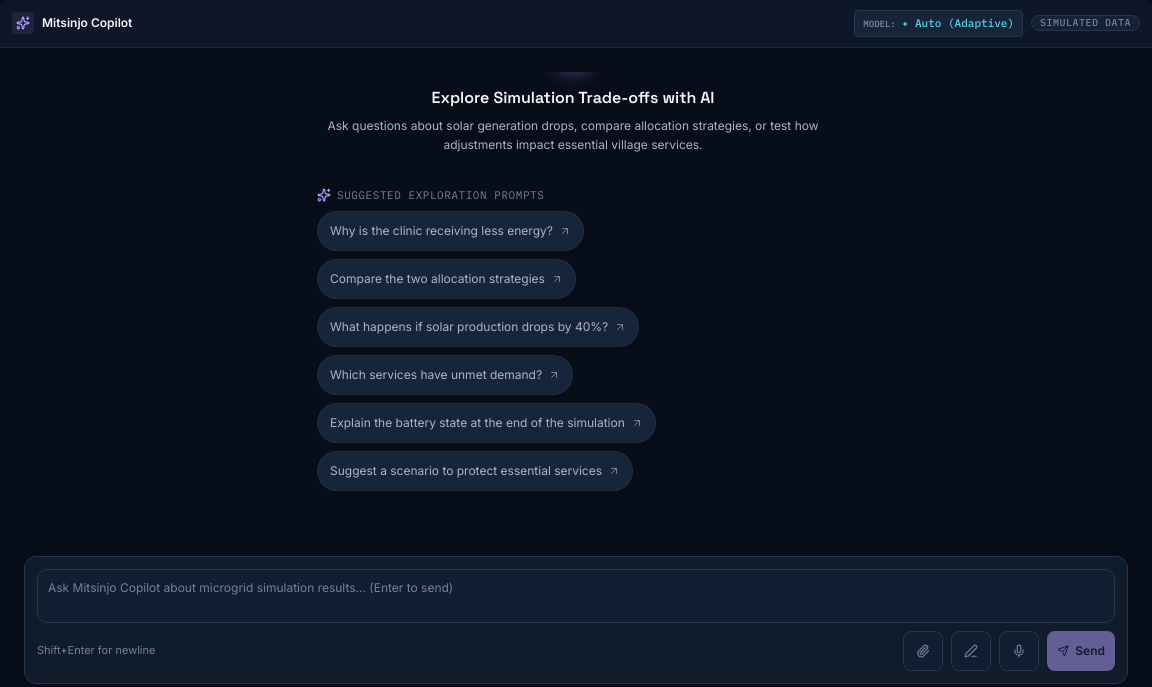
Test: Copilot chat flow (decisions, fallback note) › approving applies that proposal once, locks the card and posts the decision
(page scrolled)
Replace the text in the text box with "Cut the market tonight": (576, 596) [37, 568, 1115, 622]
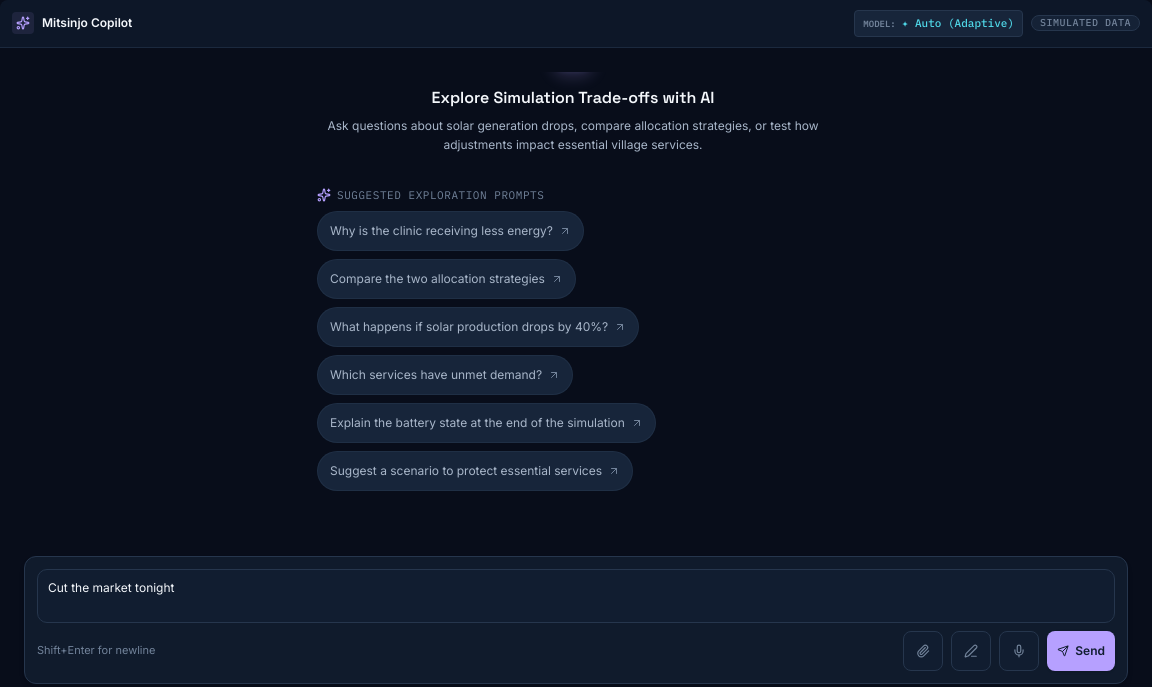
Press Enter in the text box, box [37, 568, 1115, 622]
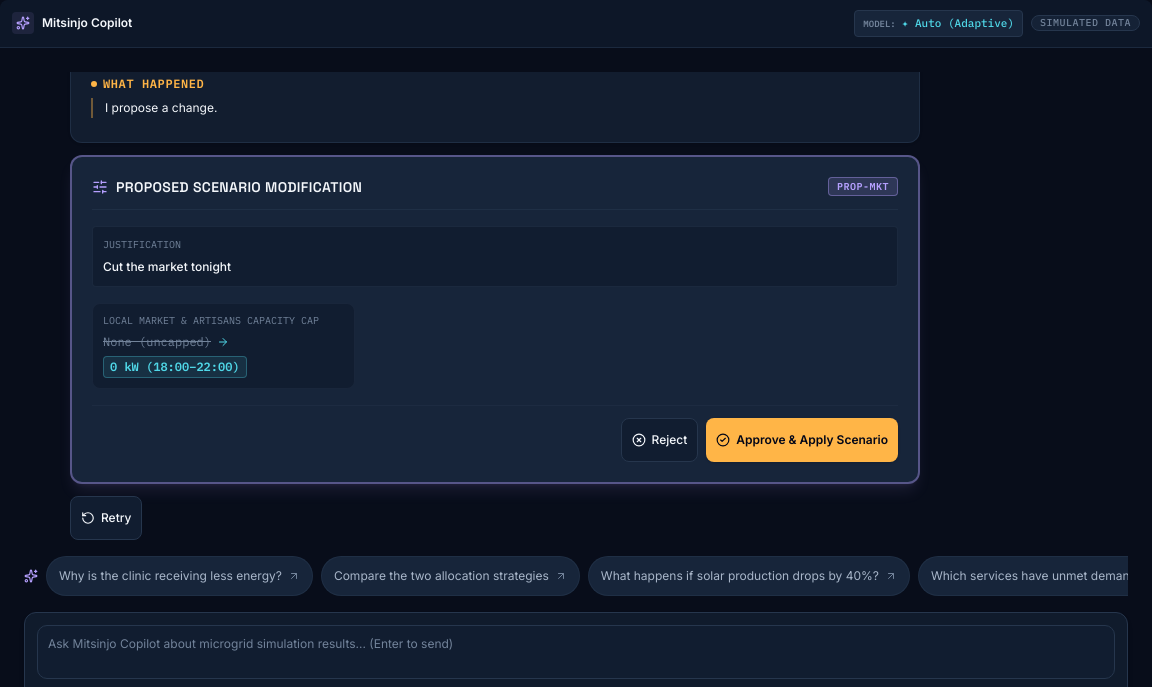
Click the button "Approve & Apply Scenario": (802, 440) [706, 418, 898, 462]
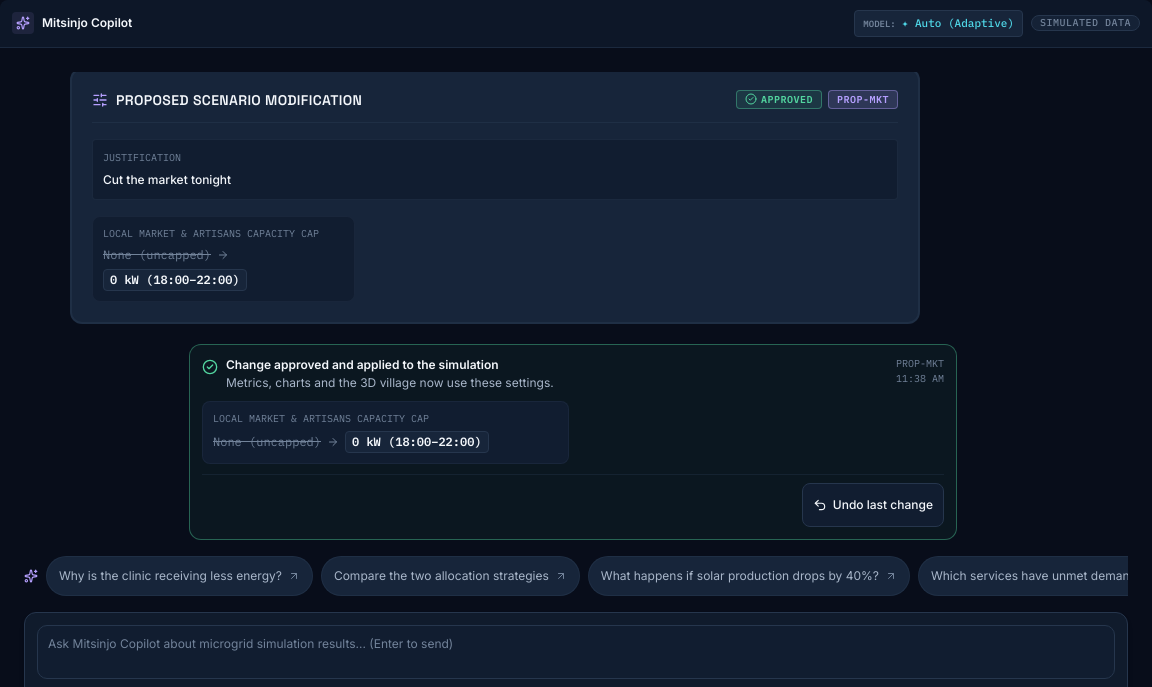
Now the message shows "Change approved and applied to the simulation", box [226, 357, 498, 372]
Now the message shows "Local Market & Artisans Capacity Cap", box [213, 412, 429, 425]
Now the message shows "0 kW (18:00–22:00)", box [352, 434, 482, 449]
